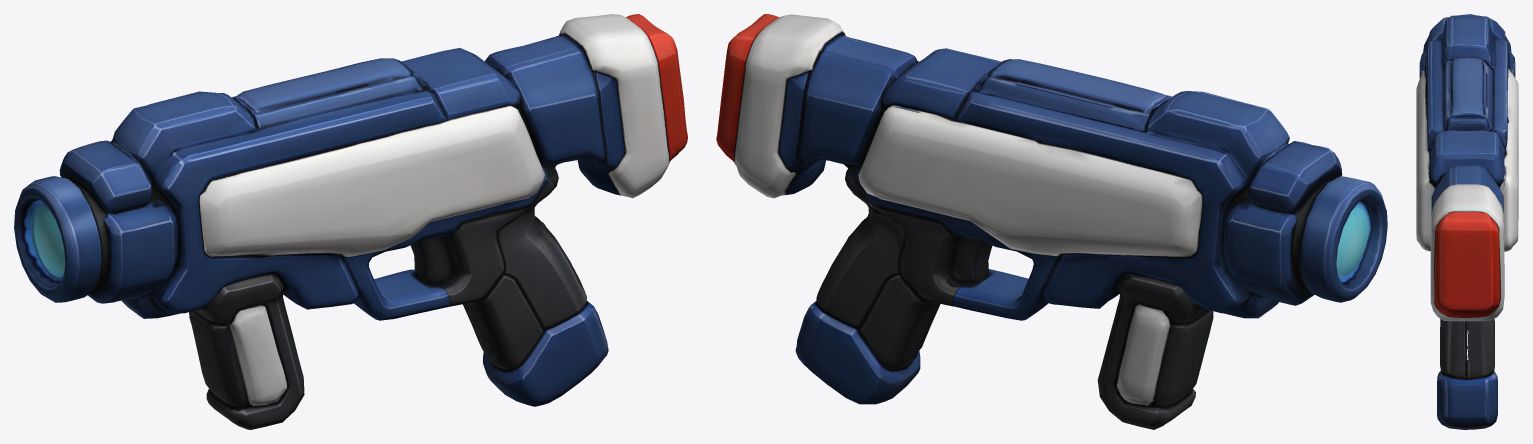
The model's file is stylized+blaster+3d+model.fbx.
3 views of the same model, side by side, from view 1: azimuth 30°, elevation 25°; view 2: azimuth 150°, elevation 25°; view 3: azimuth 270°, elevation 25° (orthographic). The views are drawn at different scales.
Visible parts, largest first — view 1: tripo_node_fecb4a34; view 2: tripo_node_fecb4a34; view 3: tripo_node_fecb4a34.
Boxes of the visible parts, x1,y1,x2,y2 form: tripo_node_fecb4a34: (14,14,687,429); tripo_node_fecb4a34: (716,14,1387,429); tripo_node_fecb4a34: (1416,14,1518,429).
Bounding box in the file's own units: 97.81 × 55.53 × 18.78.
